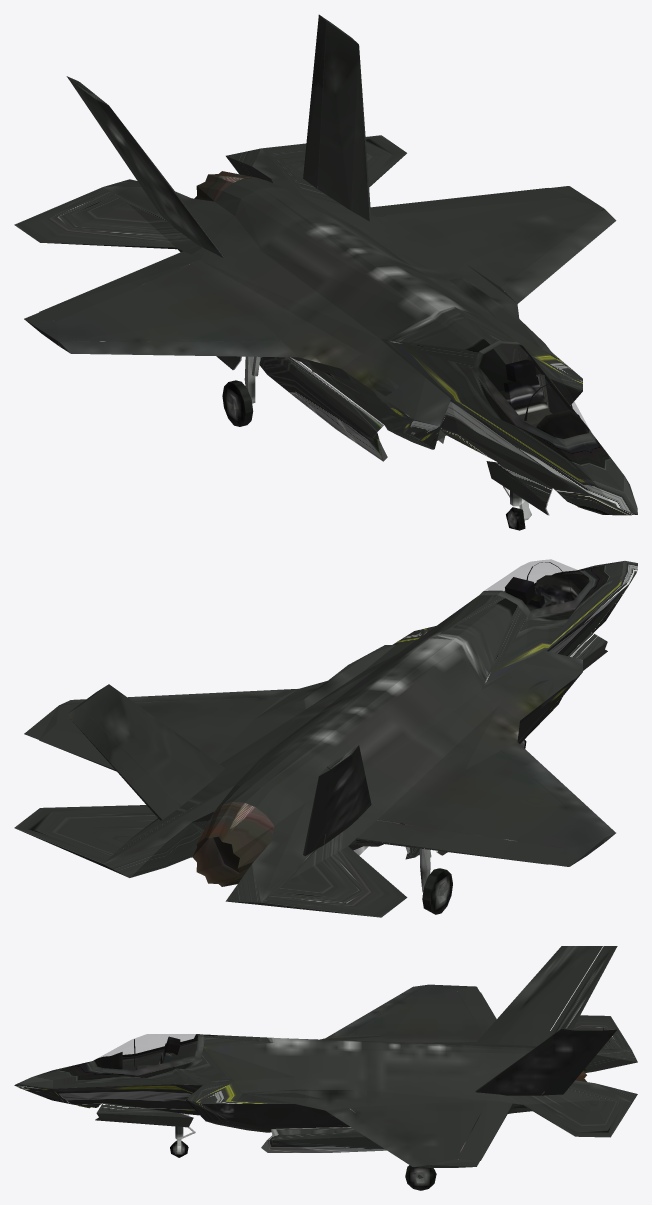
3 views of the same model, one above another, from view 1: azimuth 30°, elevation 25°; view 2: azimuth 150°, elevation 25°; view 3: azimuth 270°, elevation 25° (orthographic). The views are drawn at different scales.
Visible parts, largest first — view 1: Object_6, Object_8, Object_4; view 2: Object_6, Object_8; view 3: Object_6, Object_4, Object_8.
Boxes of the visible parts, x1,y1,x2,y2 form: Object_6: (14, 14, 637, 530); Object_8: (479, 344, 588, 438); Object_4: (259, 340, 444, 461); Object_6: (14, 561, 637, 917); Object_8: (484, 559, 588, 609); Object_6: (14, 946, 637, 1190); Object_4: (261, 1109, 386, 1152); Object_8: (95, 1034, 197, 1069).
Size of the model in its own units: 10.76 by 4.72 by 15.72.
Materials: 3 (2 with a texture image).
